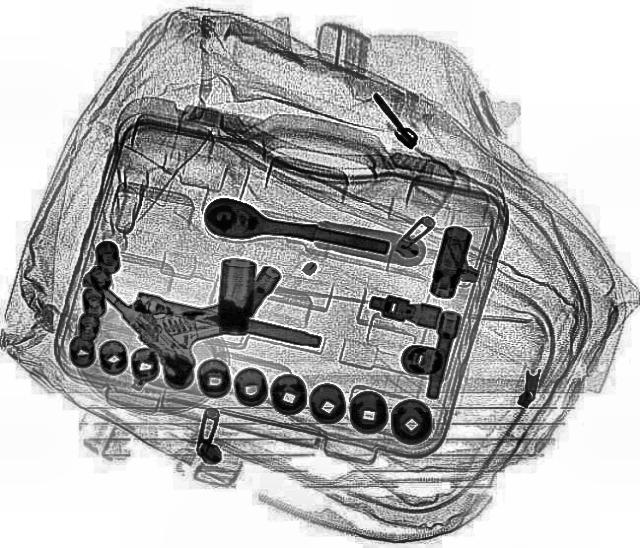Gun: (80, 233, 254, 377)
